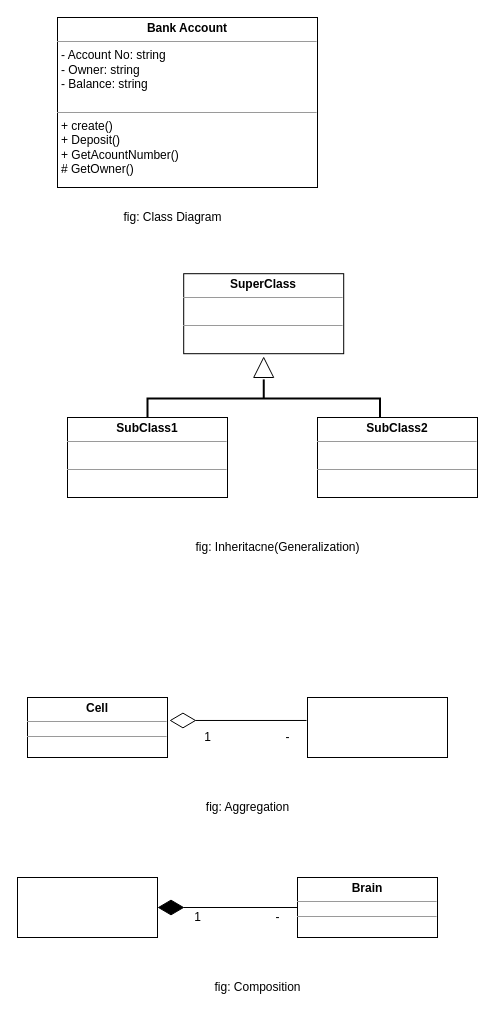
Image size: 495x1015. Some labels were removed from this diagram. Each missing label, with the centre of its shape:
Blood Cell: [377,727]
Person: [87,907]
